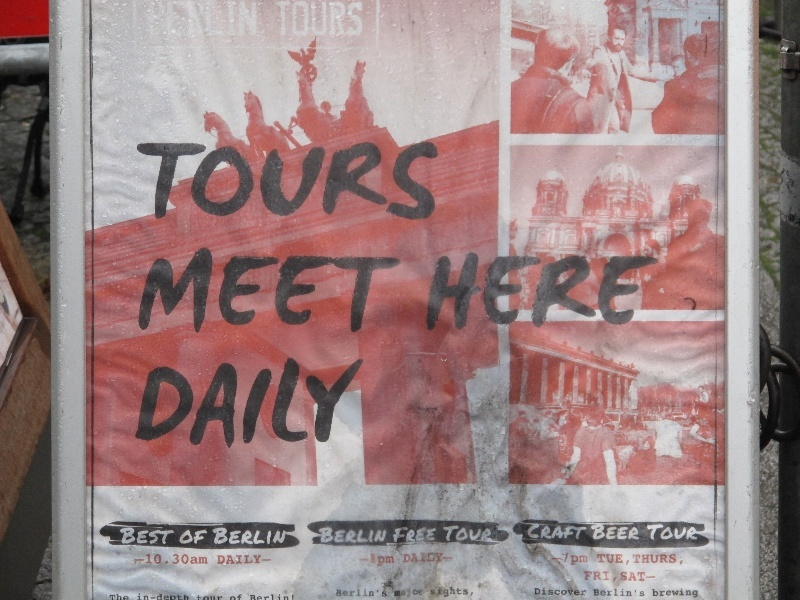text: (161, 358, 176, 449), (177, 358, 192, 449), (193, 358, 208, 449), (209, 358, 224, 449), (225, 358, 240, 449), (241, 358, 256, 449), (257, 358, 272, 449), (273, 358, 288, 449), (289, 358, 304, 449), (305, 358, 320, 449), (321, 358, 336, 449), (337, 358, 352, 449), (161, 247, 176, 331), (177, 247, 192, 331), (193, 247, 208, 331), (209, 247, 224, 331), (225, 247, 240, 331), (241, 247, 256, 331), (257, 247, 272, 331), (273, 247, 288, 331), (289, 247, 304, 331), (305, 247, 320, 331), (321, 247, 336, 331), (337, 247, 352, 331), (353, 247, 368, 331), (369, 247, 384, 331), (385, 247, 400, 331), (145, 143, 160, 221), (161, 143, 176, 221), (177, 143, 192, 221), (193, 143, 208, 221), (209, 143, 224, 221), (225, 143, 240, 221), (241, 143, 256, 221), (257, 143, 272, 221), (273, 143, 288, 221), (289, 143, 304, 221), (305, 143, 320, 221), (321, 143, 336, 221), (337, 143, 352, 221), (353, 143, 368, 221), (369, 143, 384, 221), (385, 143, 400, 221), (401, 143, 416, 221), (417, 143, 432, 221), (449, 254, 464, 330), (465, 254, 480, 330), (481, 254, 496, 330), (497, 254, 512, 330), (513, 254, 528, 330), (529, 254, 544, 330), (545, 254, 560, 330), (561, 254, 576, 330), (577, 254, 592, 330), (593, 254, 608, 330), (609, 254, 624, 330), (625, 254, 640, 330), (641, 254, 656, 330), (353, 358, 364, 449), (149, 247, 160, 331), (151, 358, 160, 449), (438, 254, 448, 330), (241, 2, 257, 35), (289, 2, 304, 37), (305, 2, 320, 37), (321, 2, 336, 37), (337, 2, 352, 37), (193, 2, 208, 35), (209, 2, 224, 35), (225, 2, 240, 35), (138, 143, 144, 221), (433, 143, 439, 221), (276, 2, 288, 37), (353, 2, 362, 37), (129, 527, 144, 545), (145, 527, 160, 545), (225, 528, 240, 545), (241, 528, 256, 545), (257, 528, 272, 545), (273, 528, 288, 545), (449, 526, 464, 543), (465, 526, 480, 543), (161, 527, 175, 545), (193, 530, 209, 545), (321, 527, 336, 543), (337, 527, 352, 543), (353, 527, 368, 543), (369, 527, 384, 543), (401, 527, 416, 543), (417, 527, 432, 543), (593, 525, 608, 541), (609, 525, 624, 541), (625, 525, 640, 541), (657, 524, 672, 540), (673, 524, 688, 540), (657, 254, 660, 330), (529, 524, 544, 539), (545, 524, 560, 539), (561, 524, 576, 539), (481, 526, 493, 543), (213, 528, 224, 545), (370, 554, 384, 567), (161, 554, 176, 565), (177, 554, 192, 565), (193, 554, 208, 565), (593, 572, 608, 583), (433, 588, 448, 599), (449, 588, 464, 599), (563, 554, 576, 566), (417, 553, 432, 563), (609, 555, 624, 565), (641, 555, 656, 565), (657, 555, 672, 565), (577, 524, 587, 539), (120, 527, 128, 545), (689, 524, 698, 540), (147, 554, 160, 565), (183, 530, 192, 545), (225, 556, 240, 565), (241, 556, 256, 565), (625, 572, 640, 581), (657, 589, 672, 598), (673, 589, 688, 598), (337, 590, 352, 599), (353, 590, 368, 599), (369, 590, 384, 599), (577, 554, 588, 566), (385, 554, 395, 567), (648, 524, 656, 540), (404, 553, 416, 563), (545, 588, 560, 596), (561, 588, 576, 596), (673, 555, 684, 565), (609, 589, 624, 596), (625, 589, 640, 596), (433, 553, 443, 563), (598, 555, 608, 565), (609, 572, 618, 583), (189, 2, 192, 35), (465, 588, 474, 599), (594, 589, 608, 596), (113, 594, 128, 600), (129, 594, 144, 600), (145, 594, 160, 600), (161, 594, 176, 600), (177, 594, 192, 600), (193, 594, 208, 600), (209, 594, 224, 600), (225, 594, 240, 600), (241, 594, 256, 600), (257, 594, 272, 600), (273, 594, 288, 600), (584, 572, 592, 583), (401, 247, 402, 331), (689, 589, 698, 598), (395, 527, 400, 543), (535, 588, 544, 596), (577, 588, 586, 596), (401, 591, 410, 599), (633, 555, 640, 565), (444, 526, 448, 543), (433, 527, 437, 543), (417, 589, 424, 598), (625, 555, 631, 565), (218, 556, 224, 565), (385, 527, 388, 543), (395, 591, 400, 599), (257, 556, 261, 565), (641, 572, 645, 581), (289, 594, 295, 600), (653, 589, 656, 598), (413, 589, 416, 598), (641, 589, 644, 596), (622, 572, 624, 581), (110, 594, 112, 600), (431, 588, 432, 599), (385, 590, 386, 599)
